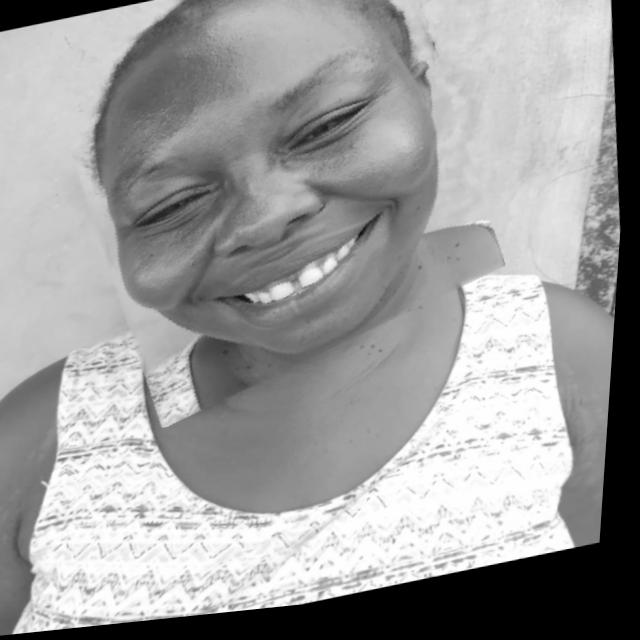happy: (43, 0, 511, 430)
